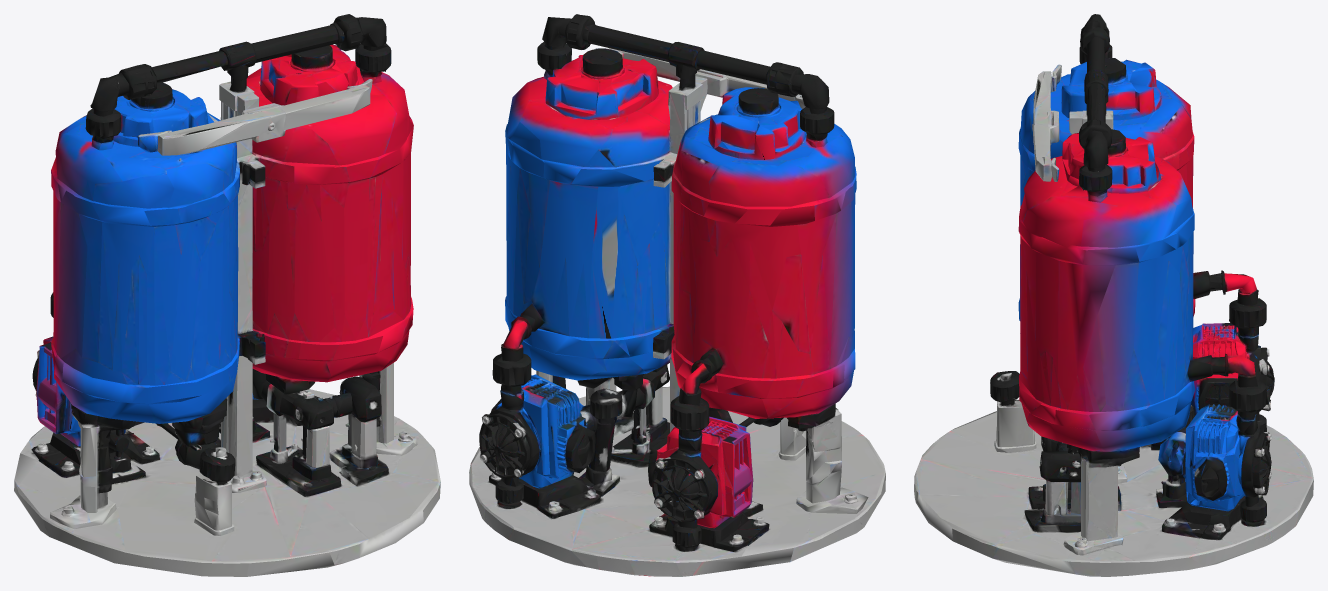
Rendered from nutrient_tank.glb.
The picture shows the model from 3 angles, left to right: view 1: azimuth 30°, elevation 25°; view 2: azimuth 150°, elevation 25°; view 3: azimuth 270°, elevation 25°; orthographic projection. The views are drawn at different scales.
Visible parts, largest first — view 1: output_unwrapped; view 2: output_unwrapped; view 3: output_unwrapped.
Boxes of the visible parts, bbox=[...] form: output_unwrapped: bbox=[14, 14, 440, 576]; output_unwrapped: bbox=[469, 14, 885, 576]; output_unwrapped: bbox=[914, 14, 1313, 576].
Bounding box in the file's own units: 1.57 × 1.9 × 1.57.
1 material, 1 textured.
